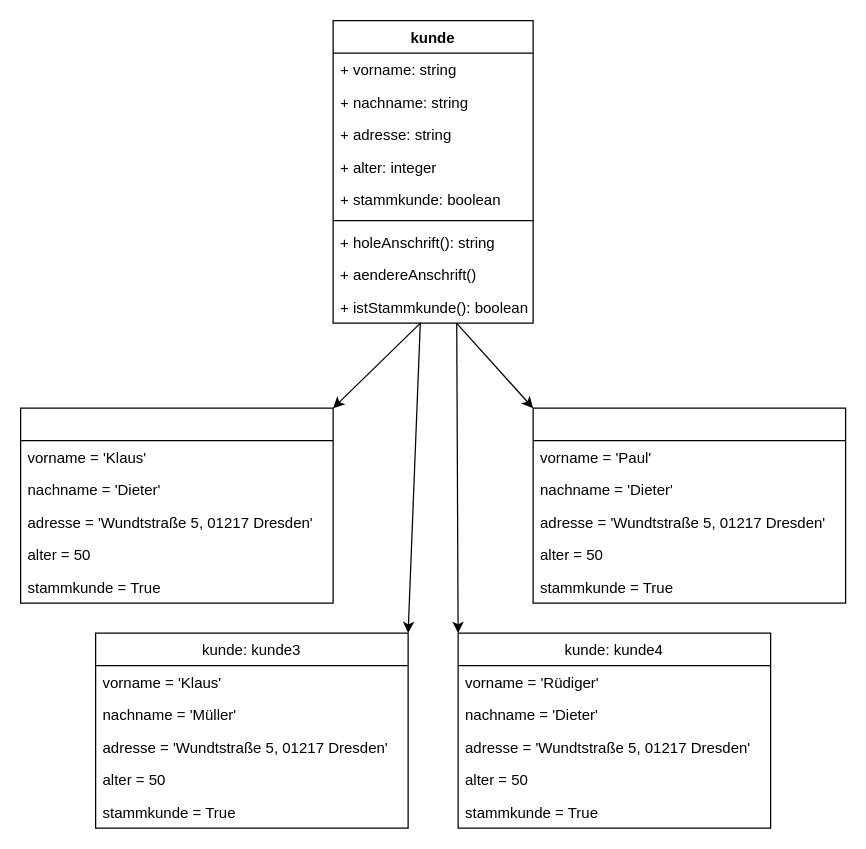
Some shapes in this 866 by 849 pixel diagram are drawn without their labels. Each missing label, with the box of its shape:
kunde: kunde1: (19, 407, 333, 603)
kunde: kunde2: (532, 407, 846, 603)
